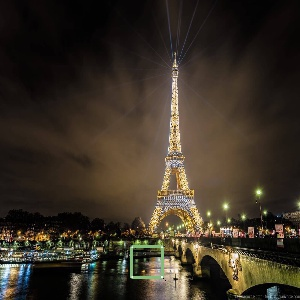square: (128, 244, 165, 280)
